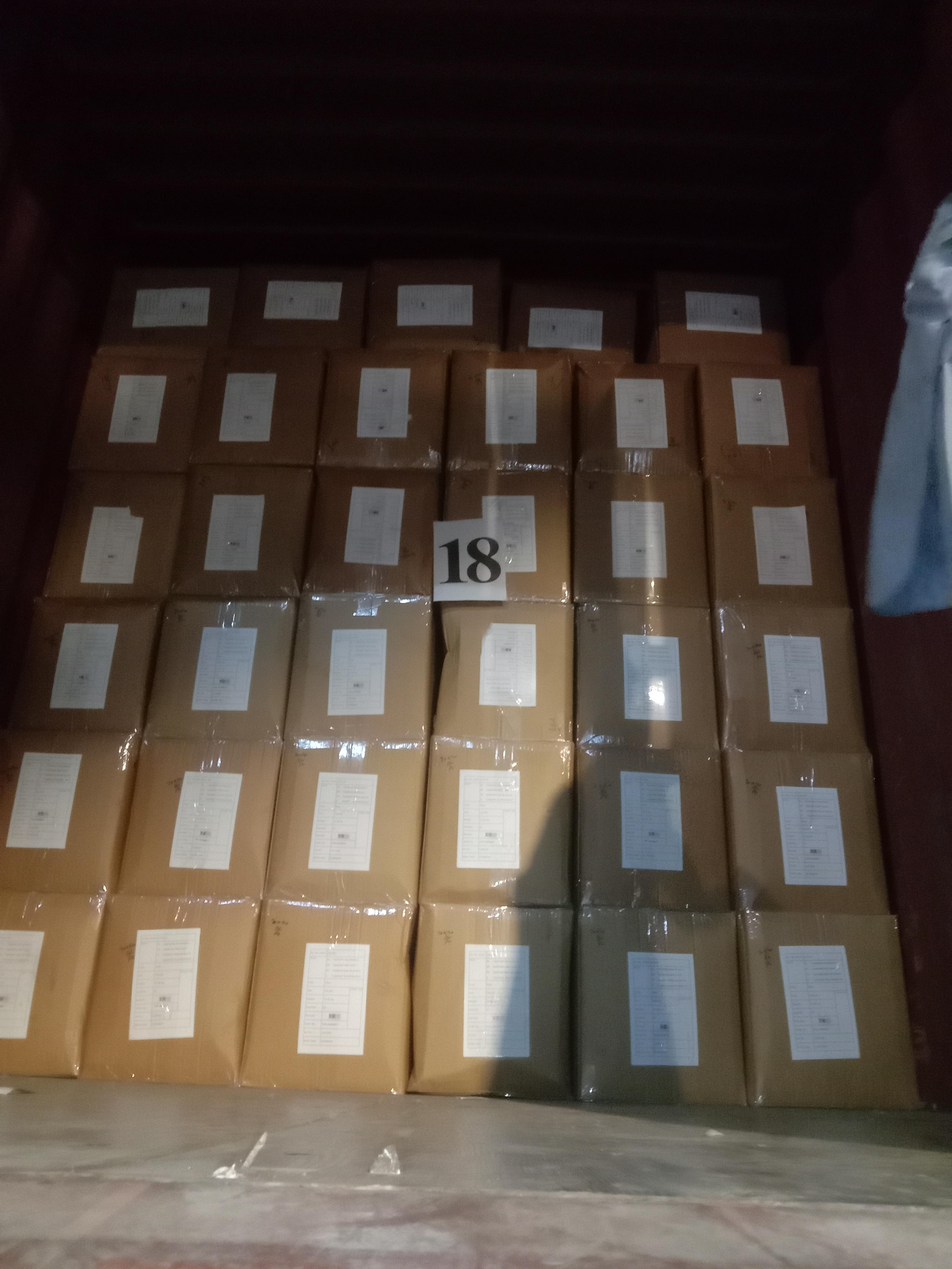carton: (738, 910, 917, 1109), (574, 907, 746, 1105), (240, 899, 414, 1094), (82, 894, 259, 1084), (409, 903, 572, 1099), (722, 750, 888, 914), (265, 740, 427, 908), (119, 738, 282, 900), (420, 736, 573, 908), (576, 744, 729, 910), (712, 601, 865, 752), (0, 728, 138, 894), (285, 592, 434, 745), (146, 598, 296, 742), (575, 603, 718, 750), (10, 599, 160, 734), (433, 602, 574, 742), (0, 890, 104, 1077), (170, 465, 313, 599), (704, 476, 849, 607), (573, 472, 708, 607), (44, 472, 184, 601), (304, 467, 440, 597), (444, 469, 572, 603), (70, 345, 204, 473), (191, 346, 325, 466), (317, 350, 448, 472), (697, 361, 829, 480), (446, 351, 572, 473), (574, 361, 699, 477), (646, 271, 789, 365), (366, 259, 501, 351), (229, 264, 366, 350), (102, 266, 239, 347), (506, 282, 636, 363)
